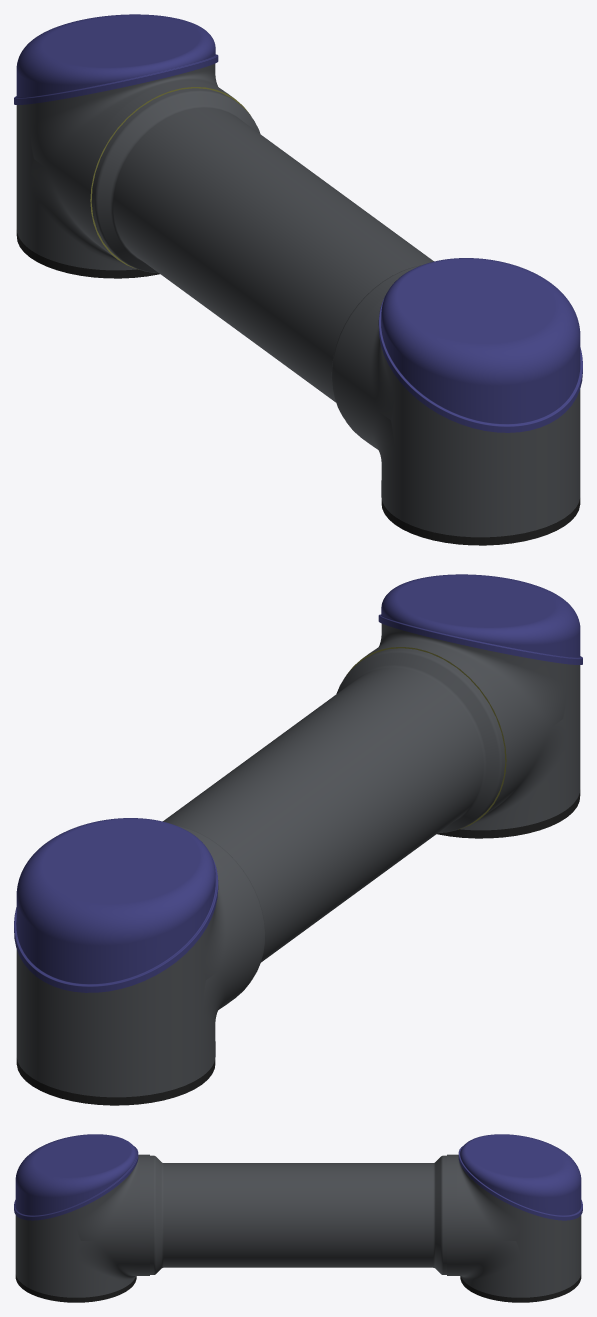
The model's file is UpperArm.obj.
The picture shows the model from 3 angles, top to bottom: view 1: azimuth 30°, elevation 25°; view 2: azimuth 150°, elevation 25°; view 3: azimuth 270°, elevation 25°; orthographic projection. The views are drawn at different scales.
Parts seen in each view (by area): view 1: Actor3, Actor0, Actor4, Actor2, Actor1; view 2: Actor3, Actor2, Actor1, Actor0, Actor4; view 3: Actor3, Actor0, Actor2, Actor4, Actor1.
Boxes of the visible parts, bbox=[...] form: Actor3: bbox=[91, 88, 433, 418]; Actor0: bbox=[334, 272, 580, 545]; Actor4: bbox=[378, 258, 582, 432]; Actor2: bbox=[16, 64, 250, 278]; Actor1: bbox=[14, 14, 218, 104]; Actor3: bbox=[163, 648, 505, 979]; Actor2: bbox=[16, 832, 262, 1105]; Actor1: bbox=[14, 818, 218, 992]; Actor0: bbox=[346, 624, 580, 838]; Actor4: bbox=[378, 574, 582, 664]; Actor3: bbox=[150, 1155, 446, 1274]; Actor0: bbox=[15, 1154, 149, 1302]; Actor2: bbox=[447, 1154, 581, 1302]; Actor4: bbox=[14, 1134, 138, 1220]; Actor1: bbox=[458, 1134, 582, 1220].
Size of the model in its own units: 0.119 by 0.1337 by 0.544.
